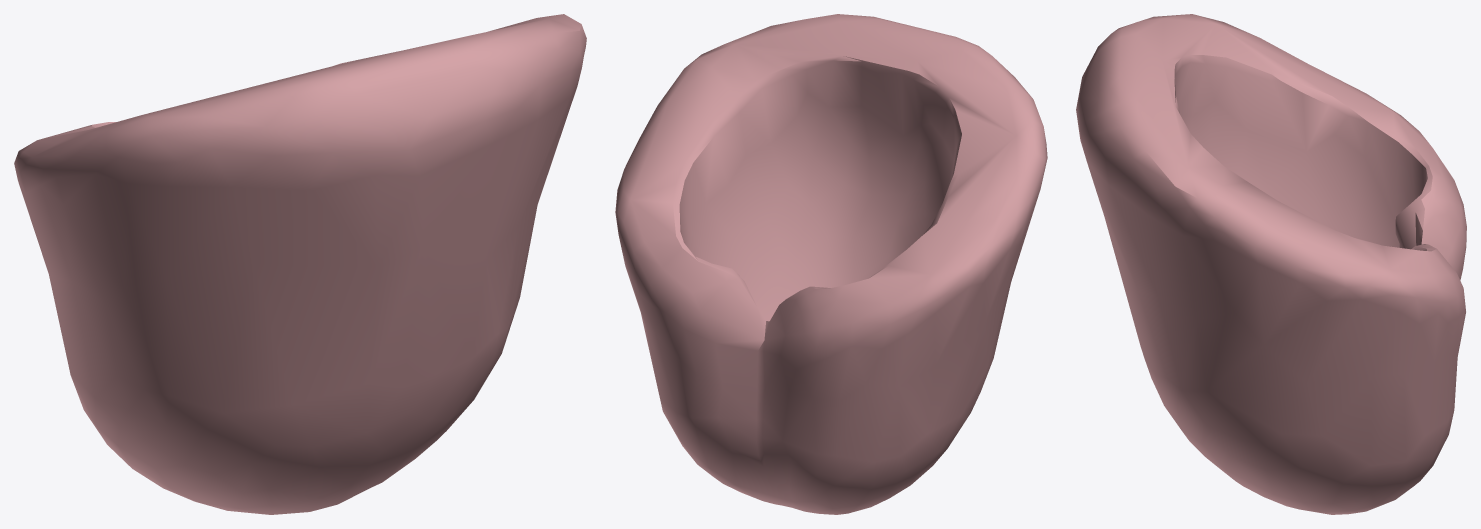
Rendered from fma18247_fj3134.glb.
3 renders of one model, left to right at view 1: azimuth 30°, elevation 25°; view 2: azimuth 150°, elevation 25°; view 3: azimuth 270°, elevation 25°, orthographic. The views are drawn at different scales.
Visible parts, largest first — view 1: FMA18247_FJ3134; view 2: FMA18247_FJ3134; view 3: FMA18247_FJ3134.
Part boxes in pixels (x1,y1,x2,y2): FMA18247_FJ3134: (14, 14, 586, 514); FMA18247_FJ3134: (615, 14, 1047, 514); FMA18247_FJ3134: (1076, 14, 1466, 514).
Size of the model in its own units: 0.0297 by 0.0305 by 0.0247.
